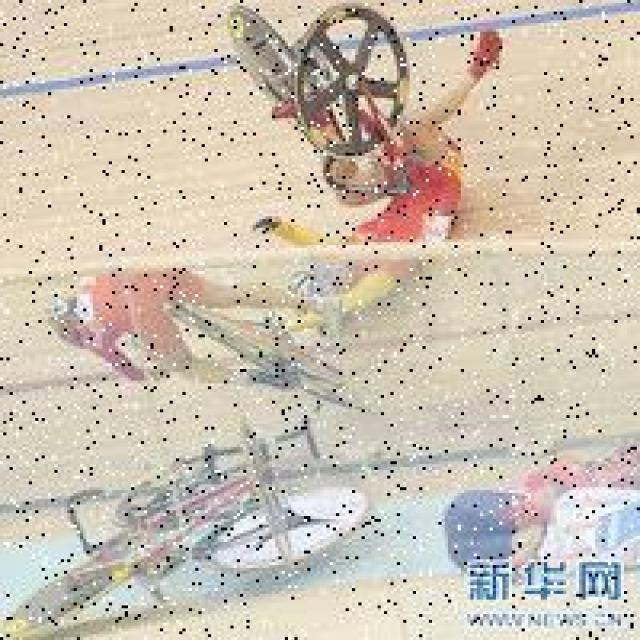fall: (282, 49, 499, 332)
